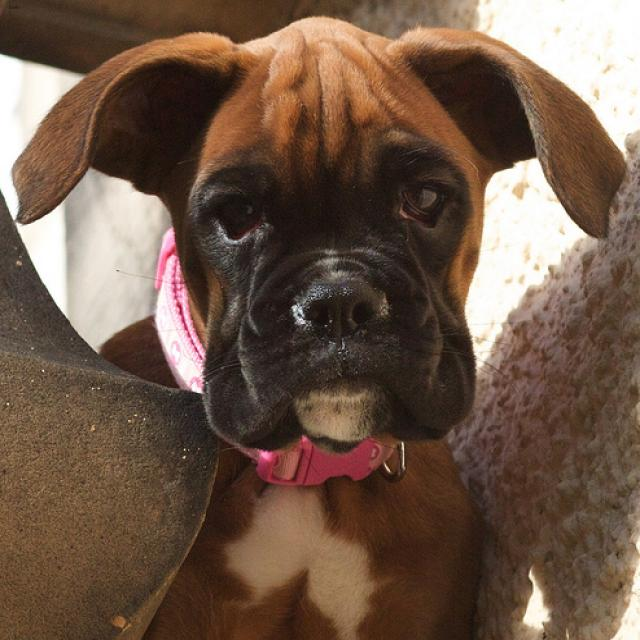dog-boxer: (1, 1, 630, 637)
